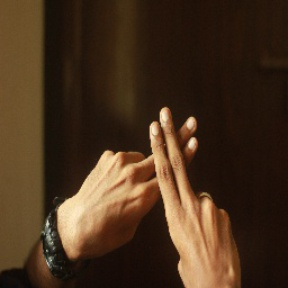F: (119, 93, 228, 239)
